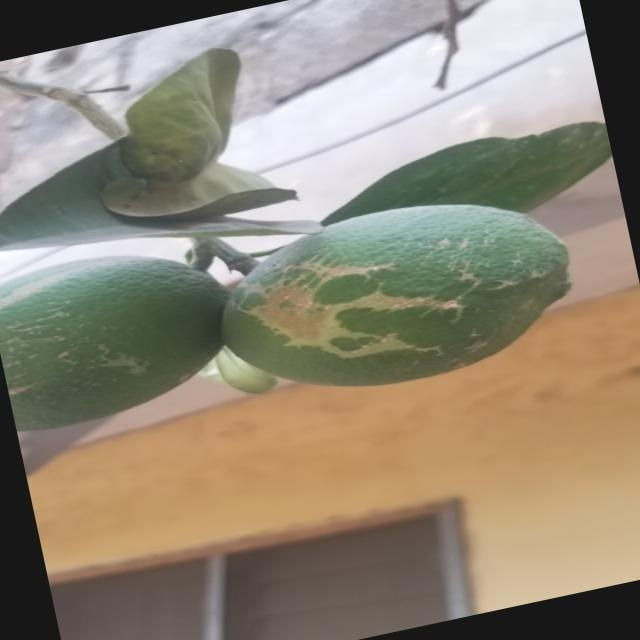agrume: (211, 177, 581, 410), (0, 233, 244, 435)
